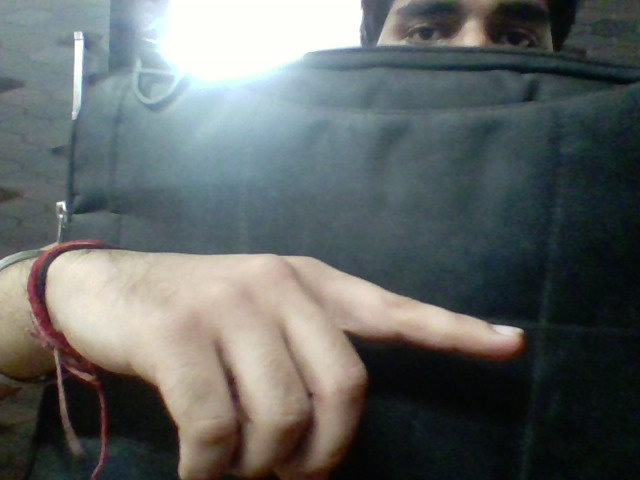p: (128, 218, 543, 469)
